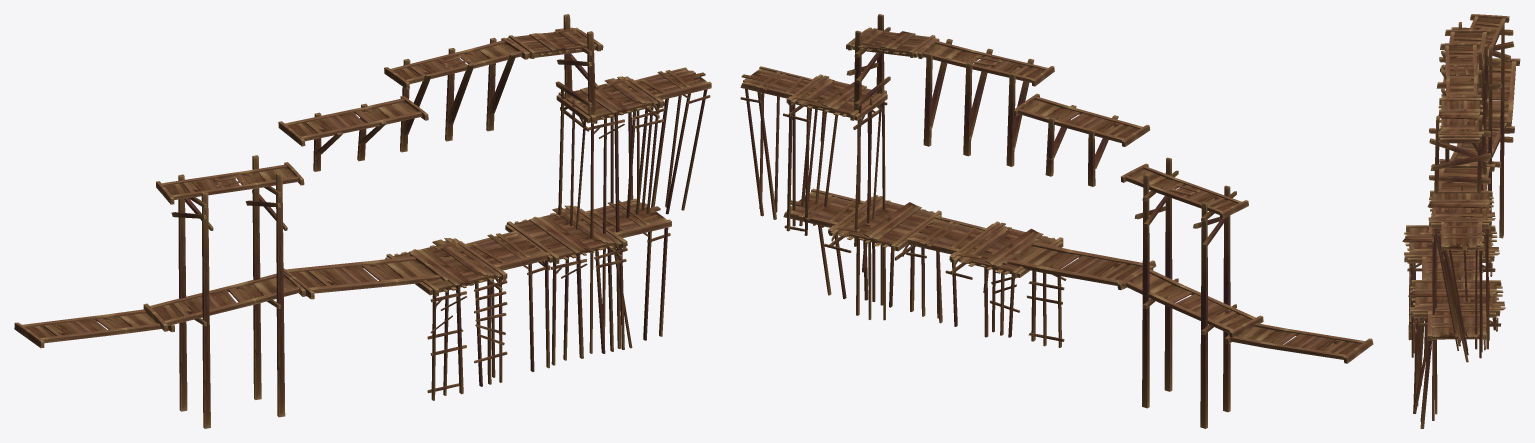
Rendered from q01c_building_007.FBX.
3 views of the same model, side by side, from view 1: azimuth 30°, elevation 25°; view 2: azimuth 150°, elevation 25°; view 3: azimuth 270°, elevation 25° (orthographic). The views are drawn at different scales.
Parts seen in each view (by area): view 1: q01c_building_07; view 2: q01c_building_07; view 3: q01c_building_07.
Part boxes in pixels (x1=…): q01c_building_07: x1=14, y1=14, x2=711, y2=428; q01c_building_07: x1=740, y1=14, x2=1373, y2=428; q01c_building_07: x1=1402, y1=14, x2=1520, y2=428.
Bounding box in the file's own units: 3956 × 1837 × 674.
